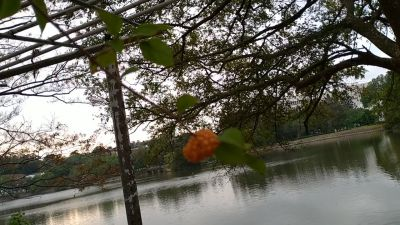eggs: (181, 126, 220, 165)
